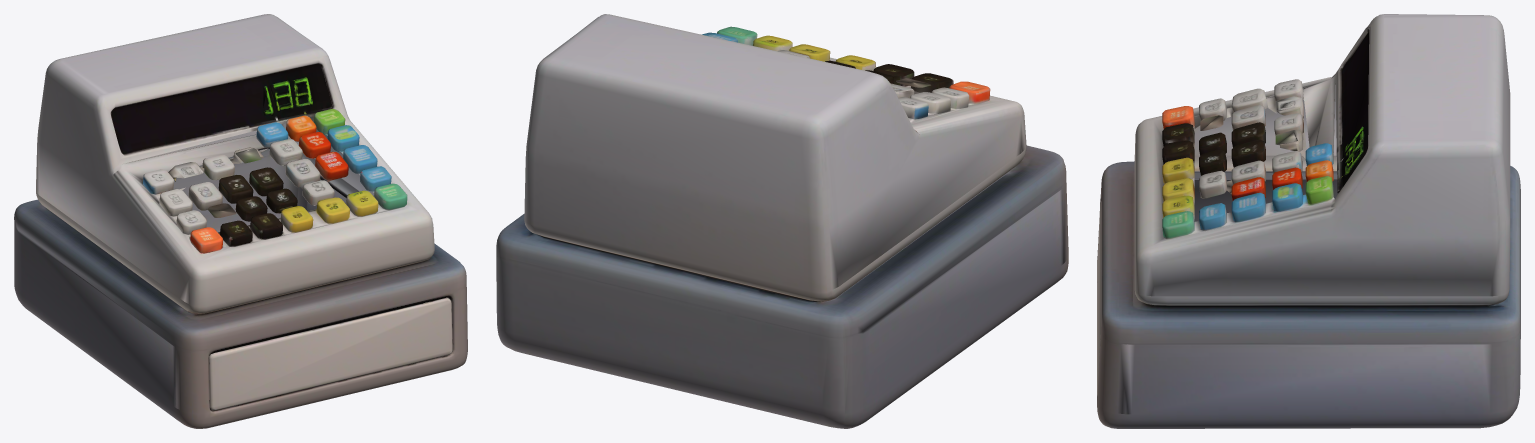
File: cash_register_0c0dcad2_v2.glb
3 views of the same model, side by side, from view 1: azimuth 30°, elevation 25°; view 2: azimuth 150°, elevation 25°; view 3: azimuth 270°, elevation 25° (orthographic). The views are drawn at different scales.
Parts seen in each view (by area): view 1: material; view 2: material; view 3: material.
Part boxes in pixels (bbox=[...]): material: bbox=[14, 14, 467, 428]; material: bbox=[496, 14, 1068, 428]; material: bbox=[1097, 14, 1520, 428].
Size of the model in its own units: 1.72 by 1.39 by 1.9.
1 material, 1 textured.
